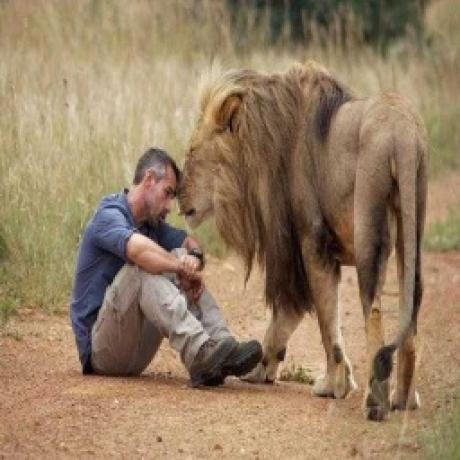Lion: (176, 57, 434, 419)
